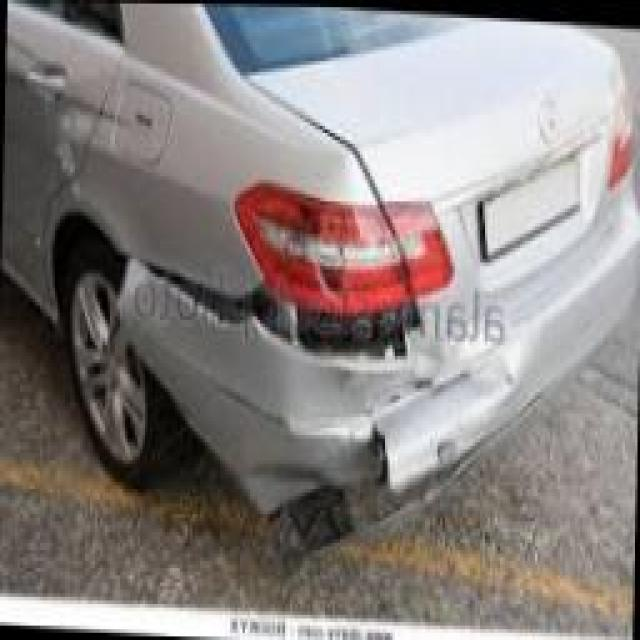Bumper: (110, 258, 573, 555)
